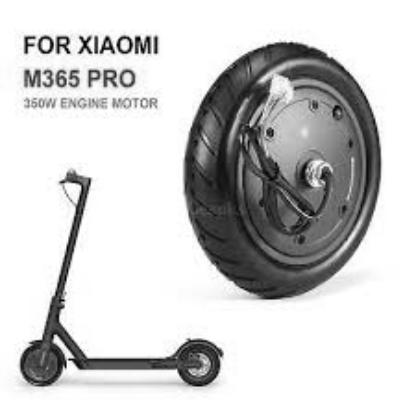bike: (19, 170, 224, 389)
